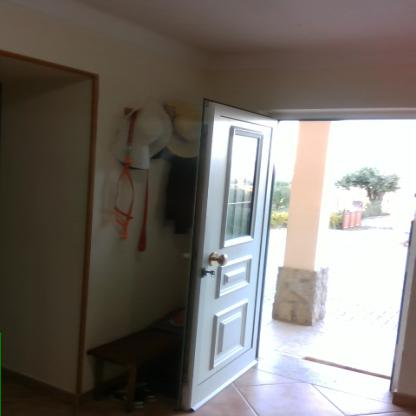open: (193, 93, 415, 415)
